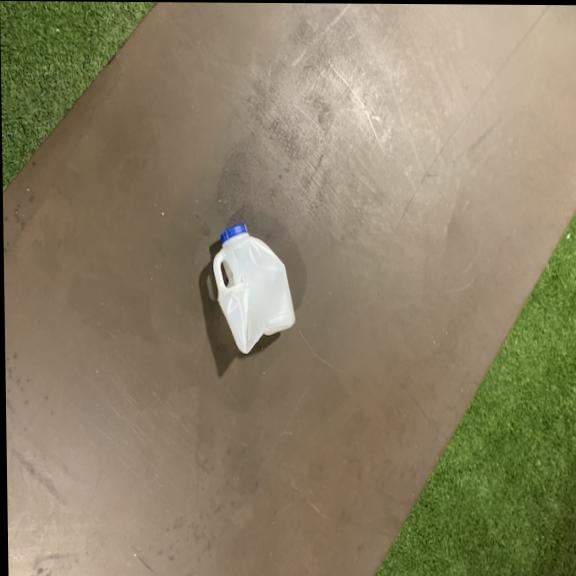Plastik: (208, 220, 303, 356)
